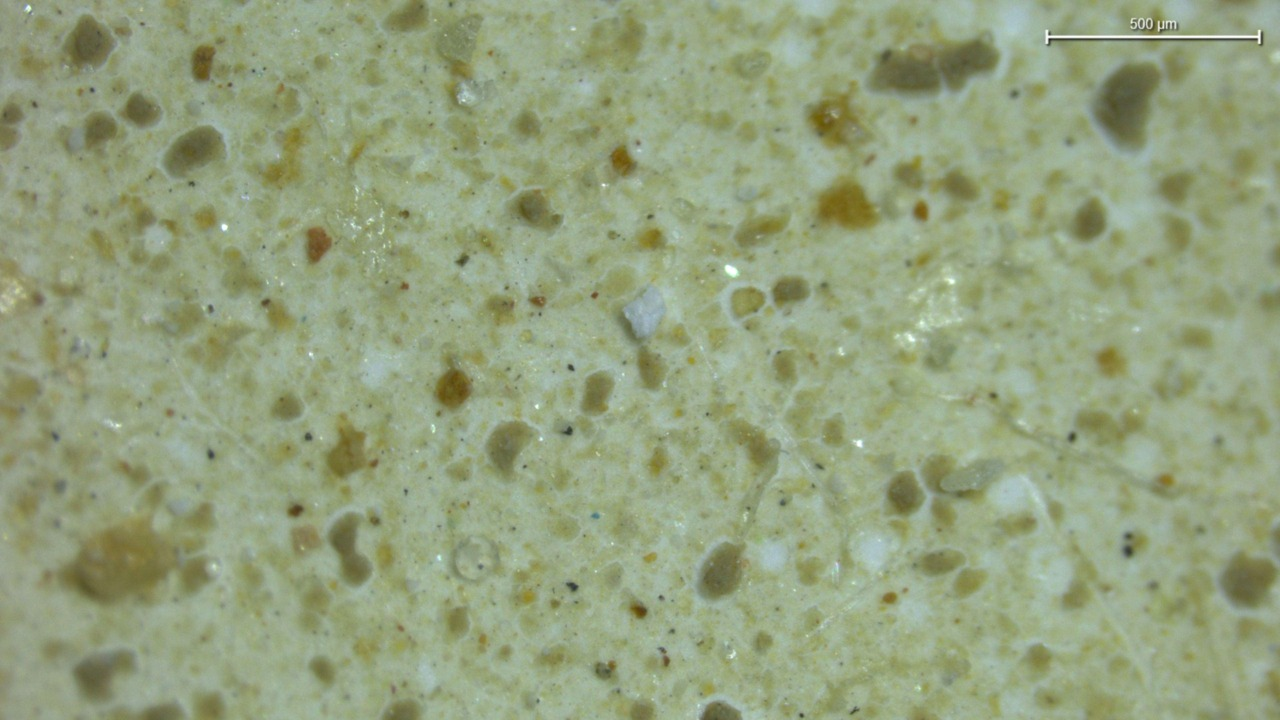microplastic_fragment: (623, 287, 666, 338), (940, 459, 1005, 492)
